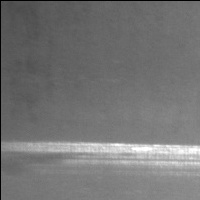scratches: (3, 140, 200, 174)
